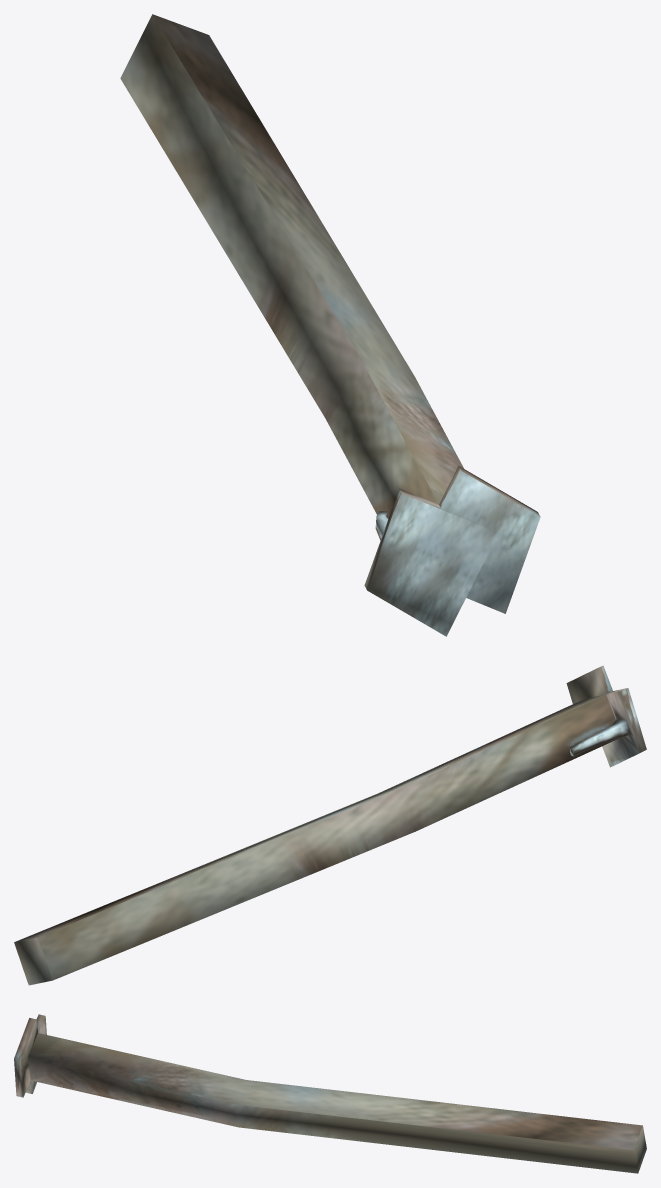
The model's file is pipe.fbx.
3 views of the same model, one above another, from view 1: azimuth 30°, elevation 25°; view 2: azimuth 150°, elevation 25°; view 3: azimuth 270°, elevation 25° (orthographic). The views are drawn at different scales.
Visible parts, largest first — view 1: 1-geedyCagemetalPipe; view 2: 1-geedyCagemetalPipe; view 3: 1-geedyCagemetalPipe.
Boxes of the visible parts, box(x1,y1,x2,y2) form: 1-geedyCagemetalPipe: box(120, 14, 540, 636); 1-geedyCagemetalPipe: box(14, 665, 646, 985); 1-geedyCagemetalPipe: box(14, 1014, 646, 1173).
Bounding box in the file's own units: 63.98 × 22.48 × 161.
1 material, 1 textured.
